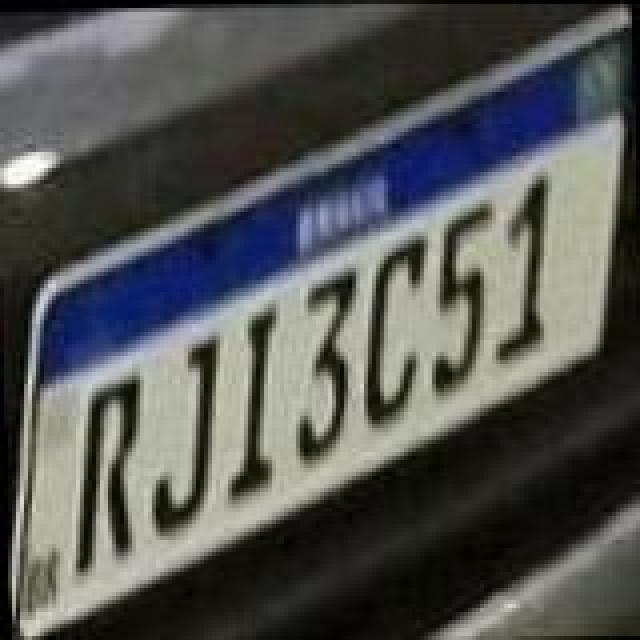1: (482, 166, 554, 366)
3: (286, 268, 366, 472)
5: (426, 194, 502, 390)
C: (352, 228, 432, 428)
I: (216, 306, 284, 502)
J: (146, 330, 230, 538)
R: (68, 372, 152, 580)
